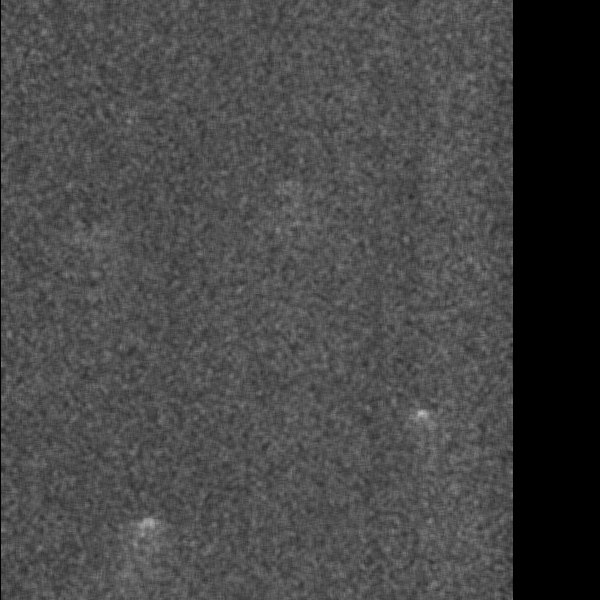spark: (408, 293, 458, 333), (352, 193, 415, 215), (196, 47, 234, 73), (294, 336, 318, 359)
